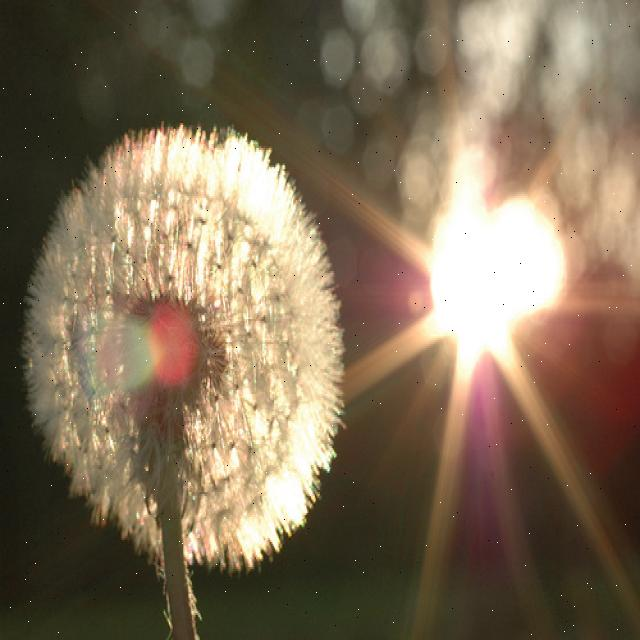Bloomed: (0, 77, 346, 621)
